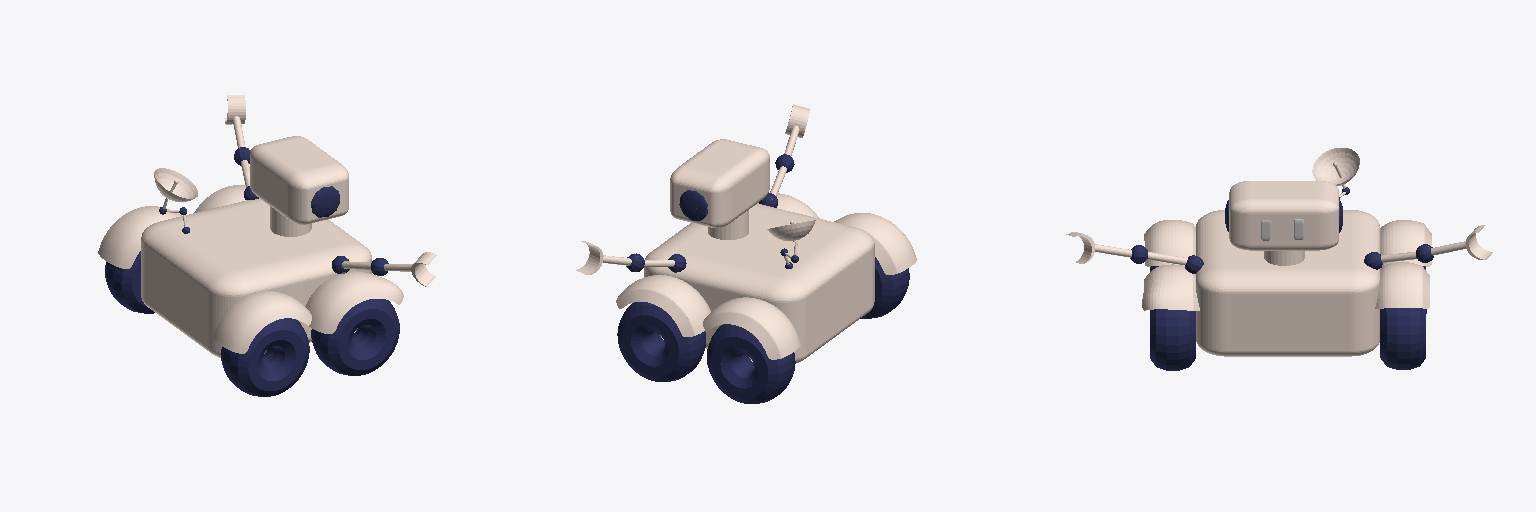
3 renders of one model, left to right at view 1: azimuth 30°, elevation 25°; view 2: azimuth 150°, elevation 25°; view 3: azimuth 270°, elevation 25°, orthographic.
Parts seen in each view (by area): view 1: Body; view 2: Body; view 3: Body.
Boxes of the visible parts, box(x1,y1,x2,y2) form: Body: box(98, 95, 436, 396); Body: box(576, 104, 916, 403); Body: box(1066, 148, 1492, 370).
Size of the model in its own units: 2.14 by 2.01 by 4.43.
2 materials, 1 textured.